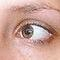eye: (22, 26, 33, 38)
